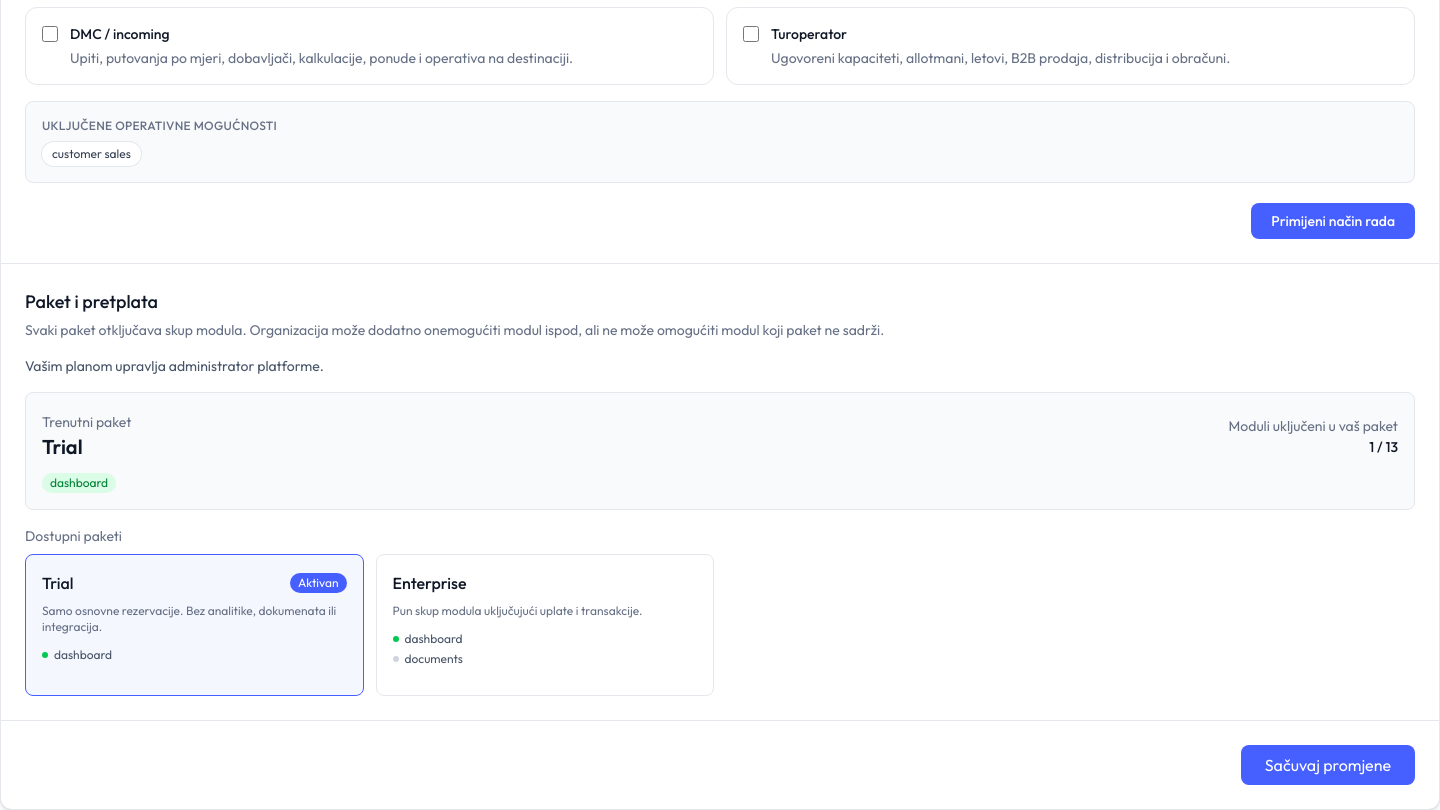
Scenario: commercial settings save and entitlement safety › localizes blocked saves without exposing diagnostics (bs)
(page scrolled)
Click the button with aria-label "Spremi postavke organizacije" at [1328, 765], box 1241,745 -> 1415,785
(page scrolled)
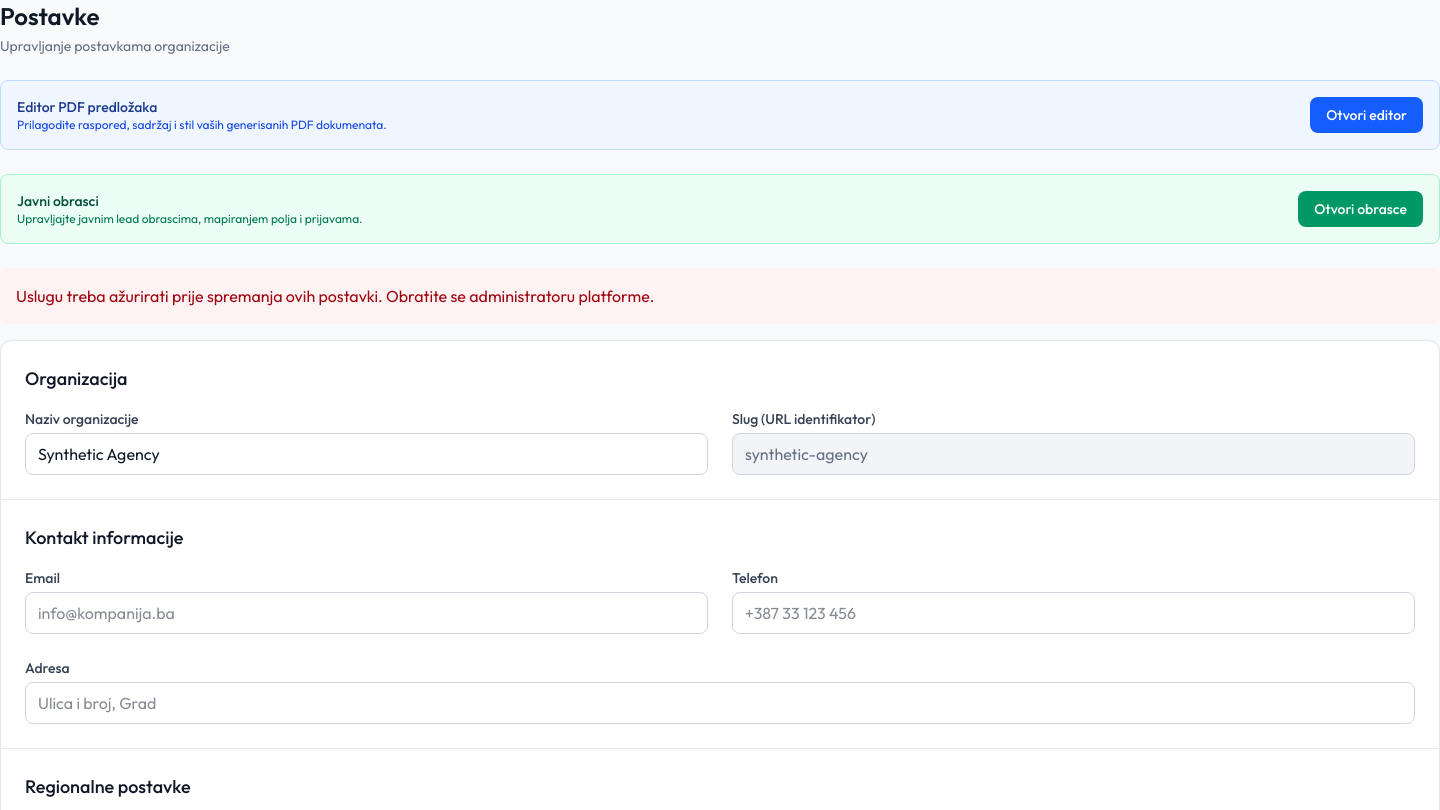
Expected: the text "Uslugu treba ažurirati prije spremanja ovih postavki. Obratite se administratoru platforme." is shown, 16,286 -> 654,306
